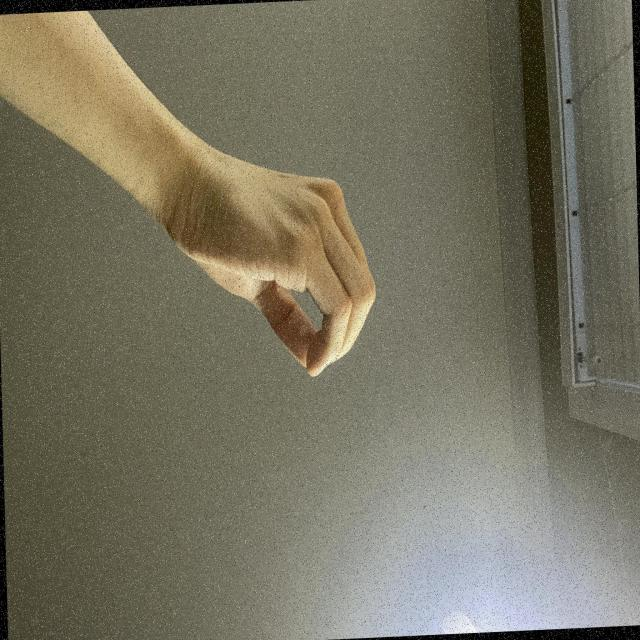O: (257, 337, 456, 640)
